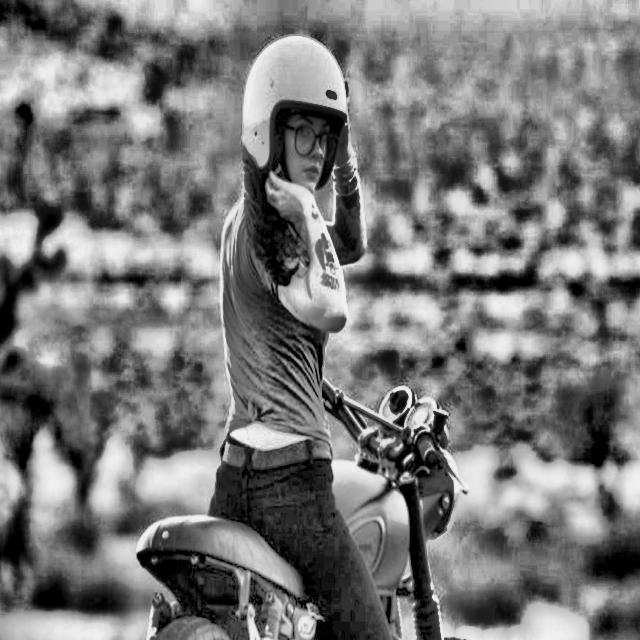Helmet: (237, 28, 361, 251)
